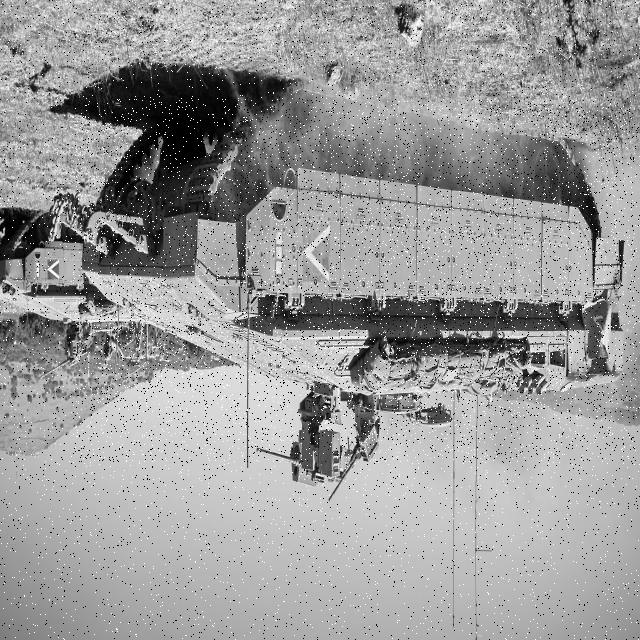MIL_MBT: (73, 98, 637, 461)
